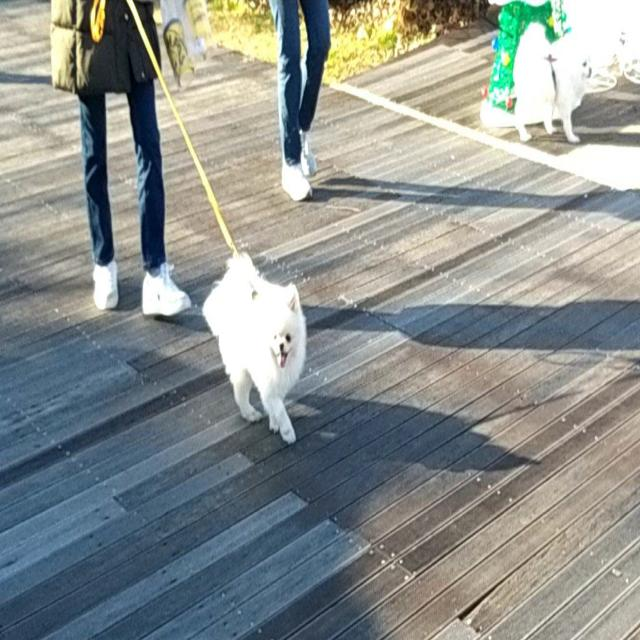Dog: (513, 23, 592, 144)
Leashed_Dog: (81, 0, 306, 444)
